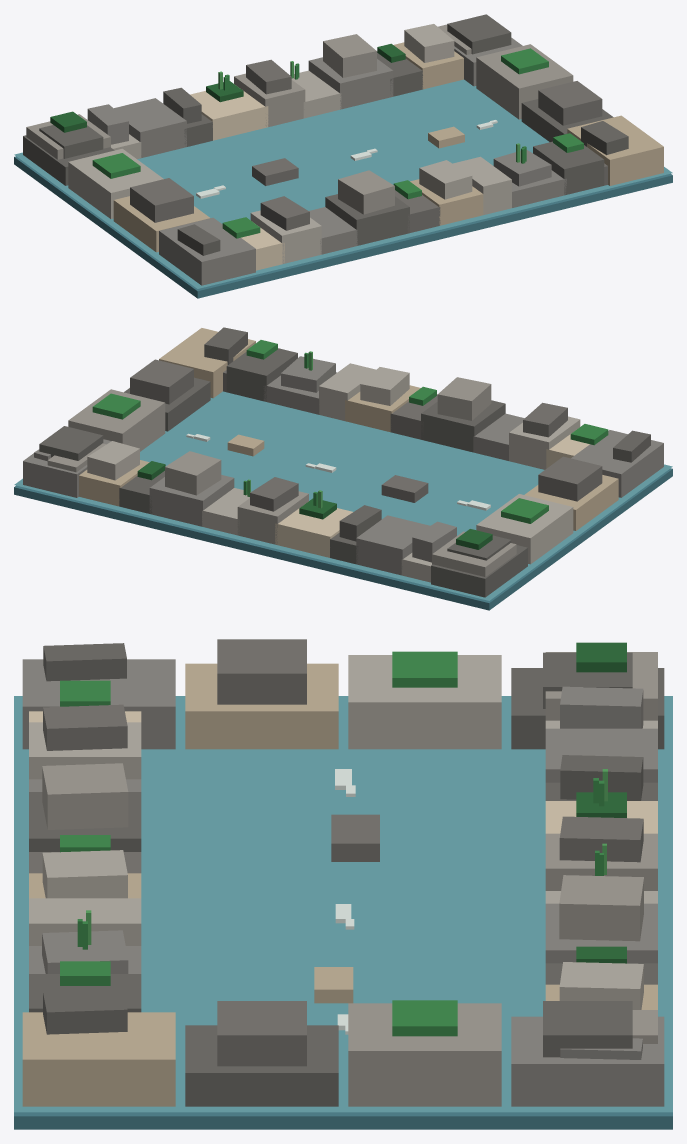
The model's file is vn_river_6x4.glb.
3 renders of one model, top to bottom at view 1: azimuth 30°, elevation 25°; view 2: azimuth 150°, elevation 25°; view 3: azimuth 270°, elevation 25°, orthographic. The views are drawn at different scales.
Parts seen in each view (by area): view 1: WaterSurface.001, WaterBed.001, EdgeNZ_2.001, EdgePZ_2.001, EdgeNZ_4, EdgePZ_4, EdgePZ_3, EdgePZ_1.001, EdgeNZ_1.001, EdgePX_1.001, EdgeNX_2.001, EdgeNX_3 (+11 smaller); view 2: WaterSurface.001, WaterBed.001, EdgeNZ_2.001, EdgeNZ_4, EdgePZ_2.001, EdgePZ_4, EdgePZ_3, EdgeNZ_1.001, EdgePZ_1.001, EdgeNX_1.001, EdgePX_1.001, EdgeNZ_0.001 (+11 smaller); view 3: WaterSurface.001, EdgePX_1.001, EdgeNX_2.001, EdgeNX_1.001, EdgePX_2.001, EdgePX_0.001, EdgePX_3, WaterBed.001, EdgePZ_2.001, EdgeNZ_4, EdgeNZ_2.001, EdgePZ_3 (+11 smaller).
Boxes of the visible parts, x1,y1,x2,y2 form: WaterSurface.001: (14, 79, 672, 288); WaterBed.001: (14, 156, 672, 298); EdgeNZ_2.001: (190, 59, 305, 140); EdgePZ_2.001: (325, 170, 440, 245); EdgeNZ_4: (308, 34, 422, 109); EdgePZ_4: (493, 133, 604, 207); EdgePZ_3: (410, 156, 511, 225); EdgePZ_1.001: (250, 196, 357, 263); EdgeNZ_1.001: (114, 87, 212, 158); EdgePX_1.001: (476, 44, 573, 119); EdgeNX_2.001: (113, 178, 210, 252); EdgeNX_3: (159, 217, 255, 285); WaterSurface.001: (14, 391, 672, 600); WaterBed.001: (14, 468, 672, 610); EdgeNZ_2.001: (237, 477, 352, 557); EdgeNZ_4: (119, 451, 234, 526); EdgePZ_2.001: (390, 377, 505, 452); EdgePZ_4: (226, 340, 336, 414); EdgePZ_3: (319, 363, 420, 432); EdgeNZ_1.001: (330, 505, 430, 575); EdgePZ_1.001: (473, 402, 580, 469); EdgeNX_1.001: (476, 494, 573, 564); EdgePX_1.001: (68, 389, 165, 451); EdgeNZ_0.001: (401, 521, 516, 582); WaterSurface.001: (14, 696, 672, 1112); EdgePX_1.001: (348, 1000, 501, 1106); EdgeNX_2.001: (185, 639, 338, 749); EdgeNX_1.001: (348, 651, 501, 749); EdgePX_2.001: (185, 1001, 338, 1106); EdgePX_0.001: (511, 1001, 664, 1106); EdgePX_3: (22, 1012, 175, 1106); WaterBed.001: (14, 1112, 672, 1129); EdgePZ_2.001: (29, 763, 141, 873); EdgeNZ_4: (545, 875, 657, 984); EdgeNZ_2.001: (545, 769, 657, 890); EdgePZ_3: (29, 850, 141, 945).
Bounding box in the file's own units: 4.03 × 0.485 × 2.7.
